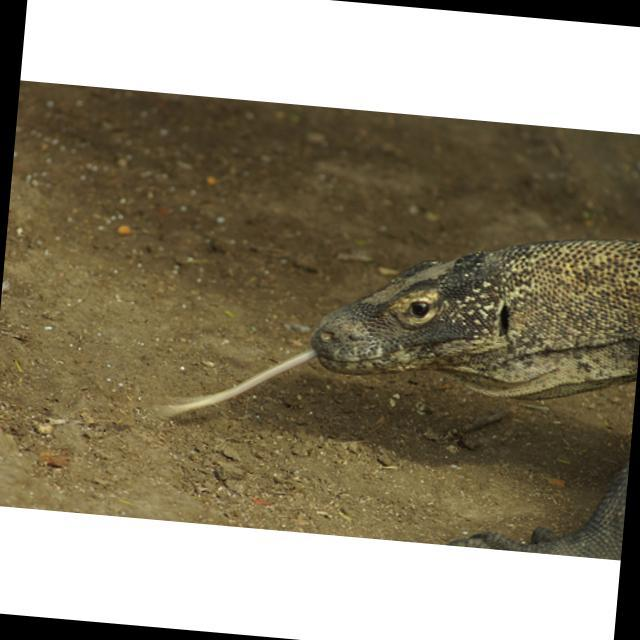KomodoDragon: (151, 195, 640, 557)
